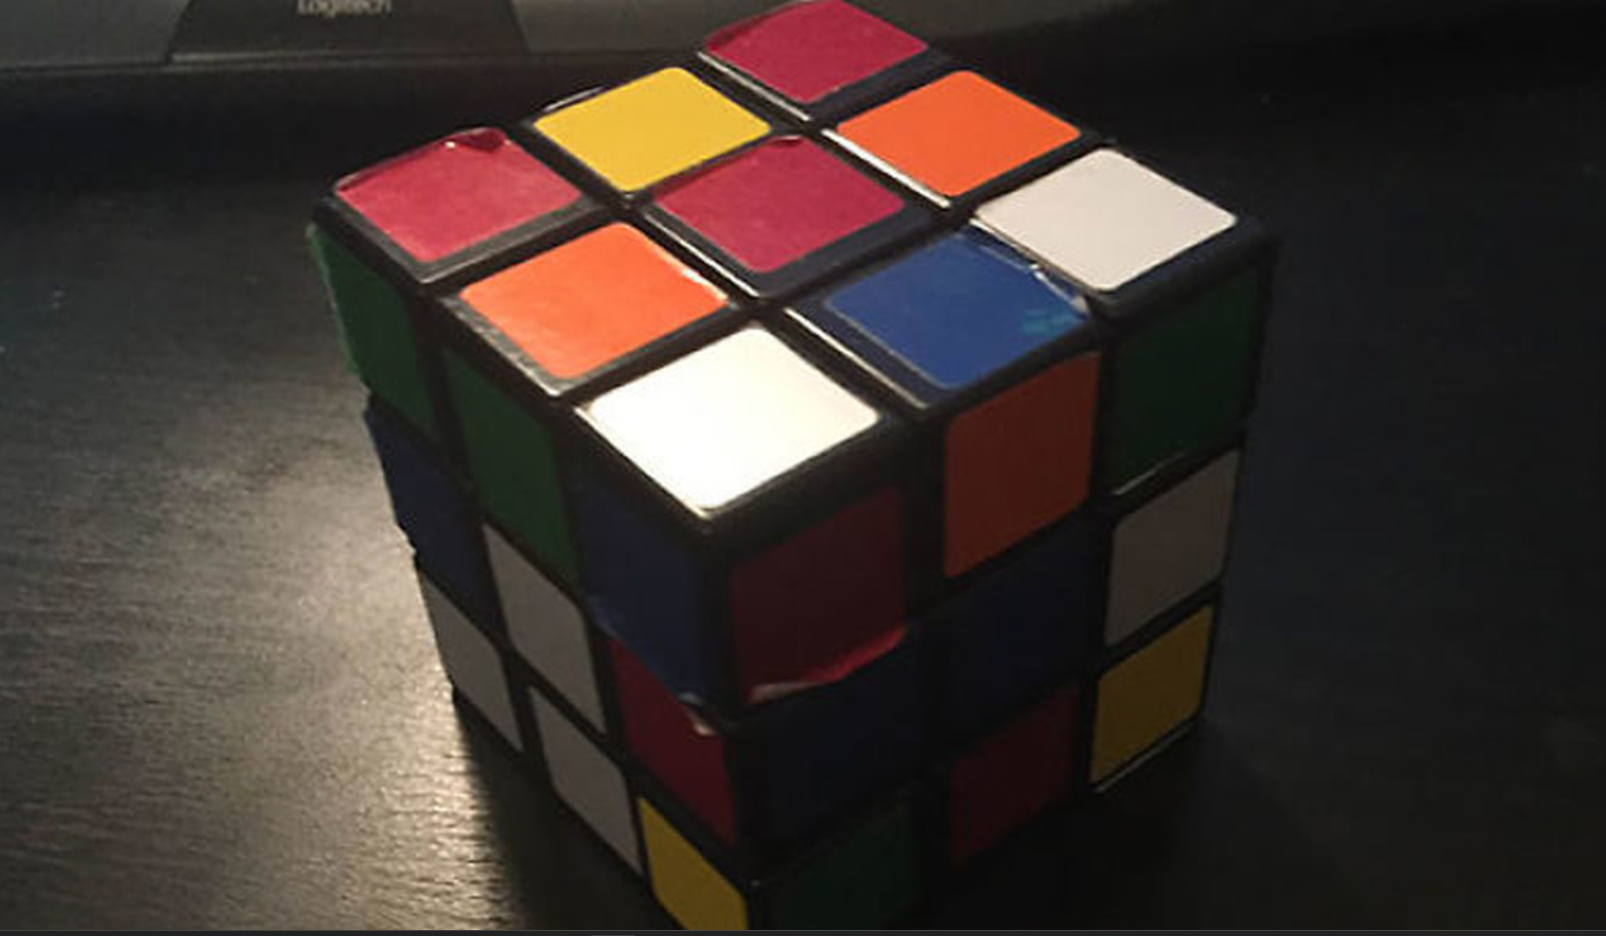cube: (313, 6, 1279, 932)
